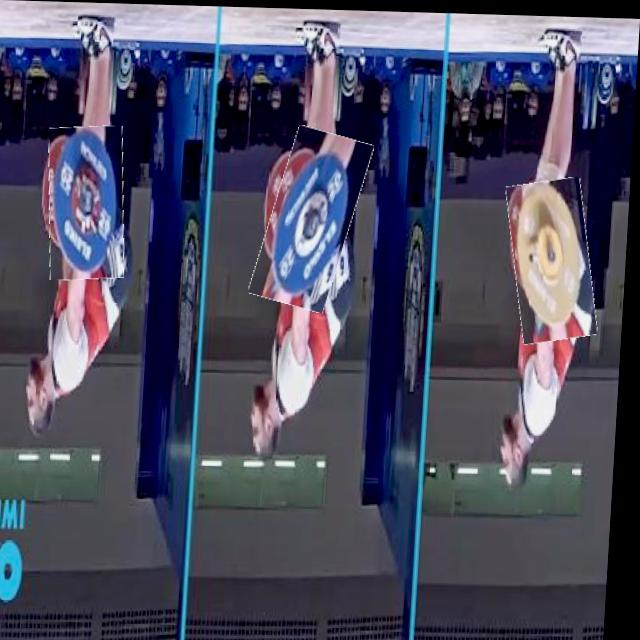barbell: (262, 126, 367, 309), (508, 176, 603, 342), (48, 125, 133, 281)
